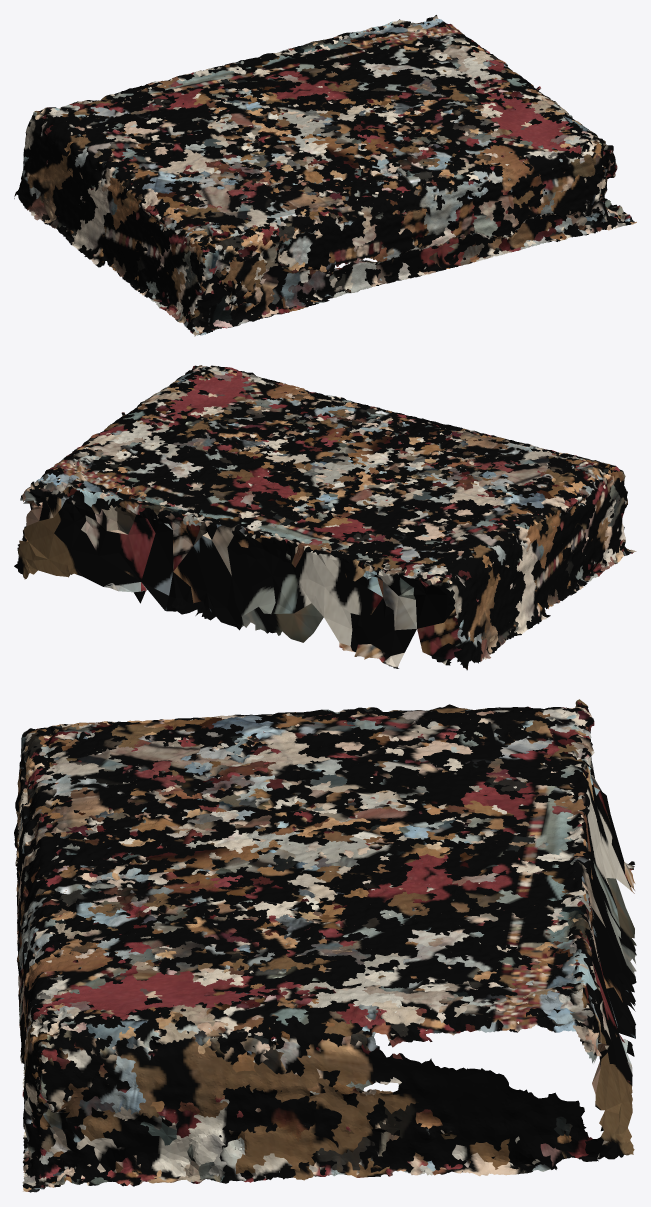
The model's file is Cards.fbx.
3 views of the same model, one above another, from view 1: azimuth 30°, elevation 25°; view 2: azimuth 150°, elevation 25°; view 3: azimuth 270°, elevation 25° (orthographic). The views are drawn at different scales.
Parts seen in each view (by area): view 1: texturedMesh; view 2: texturedMesh; view 3: texturedMesh.
Part boxes in pixels (x1,y1,x2,y2): texturedMesh: (14, 15, 636, 336); texturedMesh: (14, 365, 636, 670); texturedMesh: (14, 699, 636, 1192).
Size of the model in its own units: 85.07 by 116 by 24.47.
